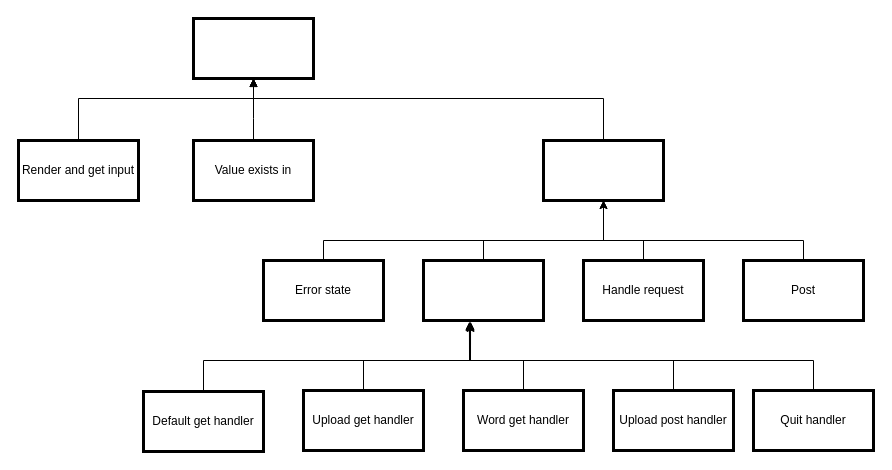
The diagram is 892 pixels wide and 470 high, and some of its shapes have lost their labels. The centre of each missing label's shape, as x and y in pixels:
"Handlers" goes at point (483, 290).
"Restful word count" goes at point (253, 48).
"Server" goes at point (603, 170).
